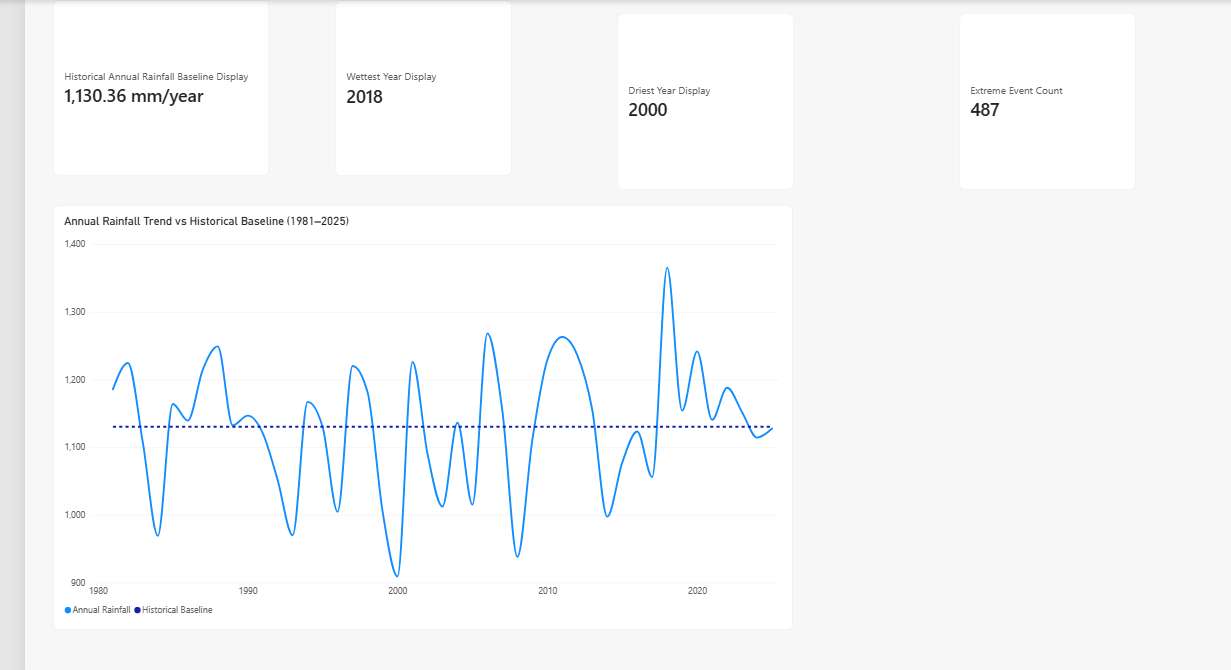

The dashboard page shown, as its layout file describes it:
{"tool":"powerbi","page":{"name":"Rainfall overview","canvas":[1920,1080],"ordinal":0},"visuals":[{"type":"cardVisual","fields":{"Data":["public vw_annual_rainfall.Historical Annual Rainfall Baseline Display"]},"box":[9.5,0,343.6,279.2],"z":0},{"type":"cardVisual","fields":{"Data":["public vw_annual_rainfall.Wettest Year Display"]},"box":[439,0,280,280],"z":1},{"type":"cardVisual","fields":{"Data":["public vw_annual_rainfall.Driest Year Display"]},"box":[942.4,21.5,280,280],"z":2},{"type":"cardVisual","fields":{"Data":["public vw_annual_rainfall.Extreme Event Count"]},"box":[1486.4,21.5,280.6,280.6],"z":3},{"type":"lineChart","title":"Annual Rainfall Trend vs Historical Baseline (1981–2025)","fields":{"Category":["public vw_annual_rainfall.year"],"Y":["Sum(public vw_annual_rainfall.annual_rainfall_mm)","public vw_annual_rainfall.Historical Annual Rainfall Baseline"]},"box":[45.3,326.9,1176.3,675.2],"z":4}]}

Visuals, with their boxes on the page's 1920x1080 design canvas (x1, y1, x2, y2). These are canvas units, not pixel positions in the 1231x670 screenshot, which may show the page scaled, cropped or inside an application window:
cardVisual - public vw_annual_rainfall.Historical Annual Rainfall Baseline Display: l=10, t=0, r=353, b=279
cardVisual - public vw_annual_rainfall.Wettest Year Display: l=439, t=0, r=719, b=280
cardVisual - public vw_annual_rainfall.Driest Year Display: l=942, t=22, r=1222, b=302
cardVisual - public vw_annual_rainfall.Extreme Event Count: l=1486, t=22, r=1767, b=302
"Annual Rainfall Trend vs Historical Baseline (1981–2025)" lineChart: l=45, t=327, r=1222, b=1002
